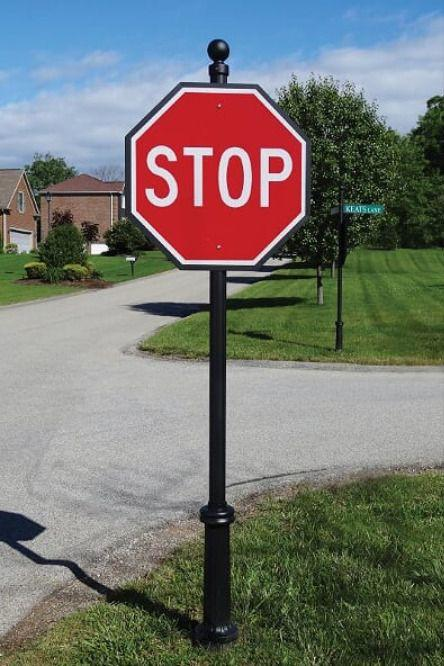Pole: (207, 267, 224, 640), (335, 225, 348, 358)
Sign: (127, 85, 310, 260)
